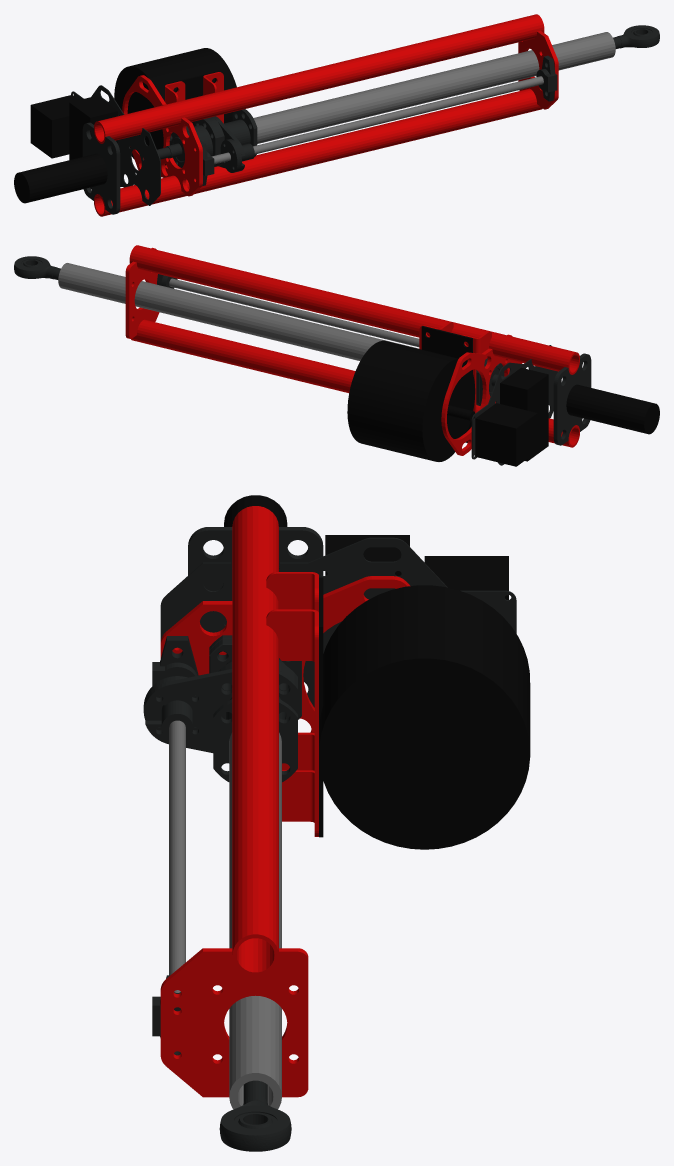
File: actuatorrender.obj
The picture shows the model from 3 angles, top to bottom: view 1: azimuth 30°, elevation 25°; view 2: azimuth 150°, elevation 25°; view 3: azimuth 270°, elevation 25°; orthographic projection. The views are drawn at different scales.
Visible parts, largest first — view 1: supportrod_002, actuatorrod_01, supportrod_01, my1025_01, Cylinder, guiderail8_01, motormount_01, motorback_01, Box, backsupport_01, Box001, endmount_01 (+9 smaller); view 2: my1025_01, supportrod_002, actuatorrod_01, supportrod_01, Box, Cylinder, guiderail8_01, Box001, motormount_01, backsupport_01, endmount_01, motorback_01 (+3 smaller); view 3: my1025_01, supportrod_002, endmount_01, motorback_01, actuatorrod_01, motorbracket_02, motormount_01, guiderail8_01, antirotate_01, rodend_01, backsupport_01, Box (+6 smaller).
Part boxes in pixels (x1,y1,x2,y2): supportrod_002: (94, 14, 544, 143); actuatorrod_01: (253, 32, 615, 143); supportrod_01: (94, 88, 542, 216); my1025_01: (114, 48, 236, 165); Cylinder: (14, 153, 107, 203); guiderail8_01: (211, 76, 543, 164); motormount_01: (122, 75, 202, 196); motorback_01: (71, 85, 160, 205); Box: (30, 95, 78, 158); backsupport_01: (82, 122, 120, 214); Box001: (69, 96, 117, 189); endmount_01: (518, 30, 558, 109); my1025_01: (347, 326, 475, 461); supportrod_002: (129, 245, 579, 374); actuatorrod_01: (58, 263, 418, 360); supportrod_01: (131, 319, 579, 447); Box: (475, 403, 537, 466); Cylinder: (566, 384, 659, 434); guiderail8_01: (169, 278, 419, 347); Box001: (500, 367, 548, 461); motormount_01: (441, 334, 522, 455); backsupport_01: (553, 353, 591, 445); endmount_01: (125, 247, 159, 338); motorback_01: (471, 345, 561, 465); my1025_01: (319, 577, 530, 849); supportrod_002: (232, 506, 278, 976); endmount_01: (160, 948, 308, 1097); motorback_01: (160, 537, 516, 707); actuatorrod_01: (229, 732, 281, 1109); motorbracket_02: (266, 609, 318, 836); motormount_01: (160, 576, 410, 732); guiderail8_01: (169, 720, 185, 992); antirotate_01: (145, 669, 297, 752); rodend_01: (219, 1080, 291, 1151); backsupport_01: (188, 527, 323, 625); Box: (424, 556, 508, 599).
Size of the model in its own units: 6.95 by 1.1 by 1.83.
